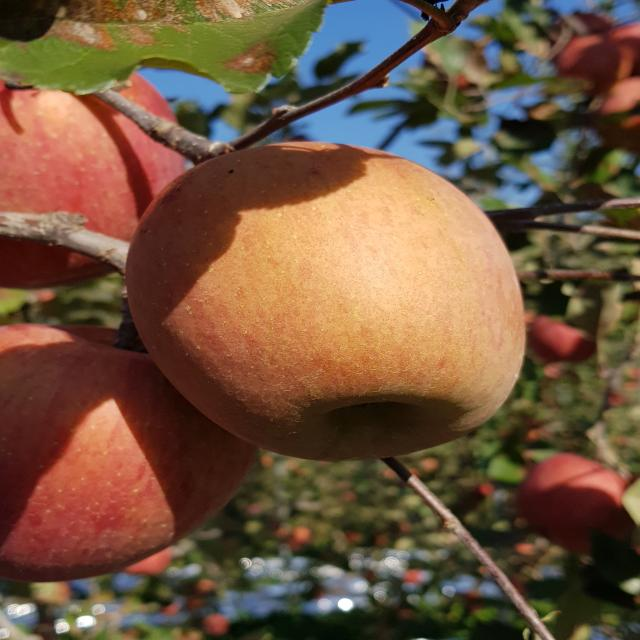fresh: (116, 135, 549, 471)
